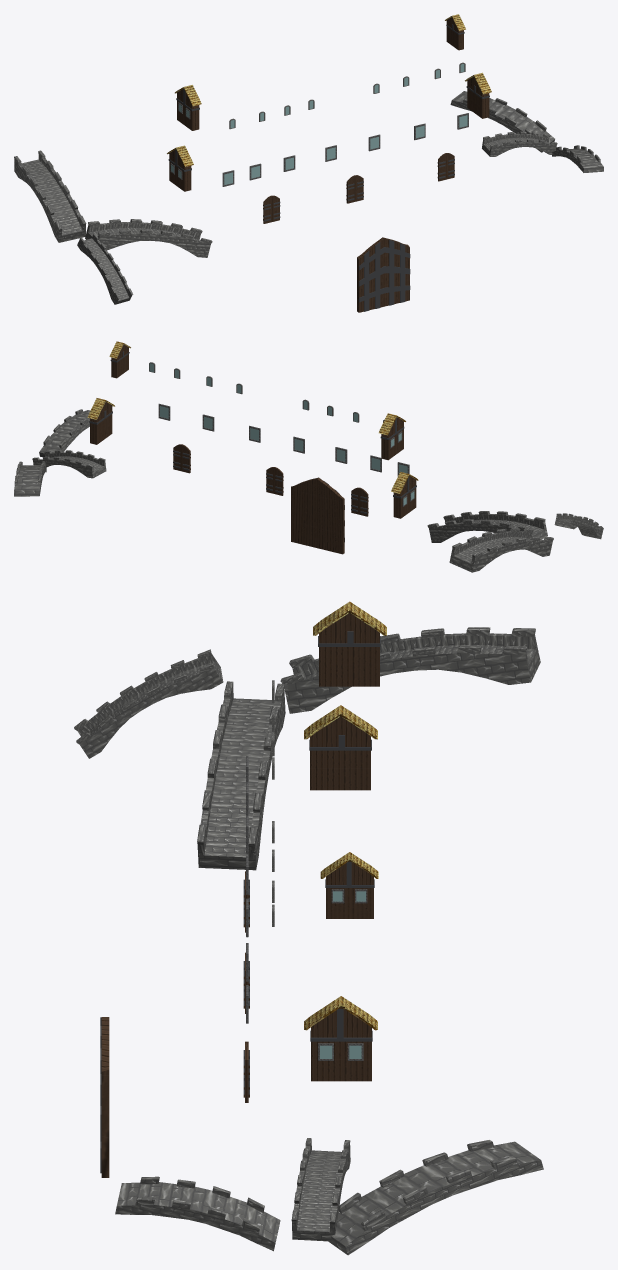
The model's file is SM_Windows_Doors_Bridges.fbx.
The picture shows the model from 3 angles, top to bottom: view 1: azimuth 30°, elevation 25°; view 2: azimuth 150°, elevation 25°; view 3: azimuth 270°, elevation 25°; orthographic projection. The views are drawn at different scales.
Visible parts, largest first — view 1: SM_Bridge_05, SM_Bridge_03, SM_Castle_door_L_01, SM_Castle_Door_R_01, SM_Bridge_04, SM_Small_Bridge_03, SM_Bridge_01, SM_Building_add_on_03, SM_Building_add_on_07, SM_Building_add_on_02, SM_Small_Bridge_01, SM_Building_add_on_06; view 2: SM_Bridge_05, SM_Bridge_03, SM_Castle_door_L_01, SM_Castle_Door_R_01, SM_Bridge_01, SM_Small_Bridge_01, SM_Building_add_on_03, SM_Small_Bridge_03, SM_Building_add_on_07, SM_Building_add_on_02, SM_Bridge_04, SM_Building_add_on_06; view 3: SM_Bridge_03, SM_Bridge_05, SM_Small_Bridge_03, SM_Small_Bridge_01, SM_Bridge_04, SM_Building_add_on_02, SM_Building_add_on_03, SM_Building_add_on_07, SM_Bridge_01, SM_Building_add_on_06, SM_Castle_Door_R_01.
Part boxes in pixels (bbox=[...]): SM_Bridge_05: bbox=[14, 150, 86, 242]; SM_Bridge_03: bbox=[85, 219, 212, 257]; SM_Castle_door_L_01: bbox=[357, 237, 384, 312]; SM_Castle_Door_R_01: bbox=[383, 237, 410, 306]; SM_Bridge_04: bbox=[77, 233, 133, 304]; SM_Small_Bridge_03: bbox=[450, 91, 554, 152]; SM_Bridge_01: bbox=[482, 131, 557, 156]; SM_Building_add_on_03: bbox=[167, 145, 193, 191]; SM_Building_add_on_07: bbox=[175, 85, 201, 130]; SM_Building_add_on_02: bbox=[465, 72, 491, 118]; SM_Small_Bridge_01: bbox=[552, 145, 603, 172]; SM_Building_add_on_06: bbox=[445, 14, 465, 50]; SM_Bridge_05: bbox=[449, 528, 553, 572]; SM_Bridge_03: bbox=[427, 511, 547, 542]; SM_Castle_door_L_01: bbox=[316, 477, 344, 554]; SM_Castle_Door_R_01: bbox=[291, 478, 317, 547]; SM_Bridge_01: bbox=[32, 450, 106, 478]; SM_Small_Bridge_01: bbox=[39, 409, 90, 457]; SM_Building_add_on_03: bbox=[391, 472, 418, 518]; SM_Small_Bridge_03: bbox=[14, 461, 46, 496]; SM_Building_add_on_07: bbox=[378, 413, 405, 460]; SM_Building_add_on_02: bbox=[87, 398, 114, 444]; SM_Bridge_04: bbox=[554, 513, 603, 539]; SM_Building_add_on_06: bbox=[109, 341, 130, 378]; SM_Bridge_03: bbox=[197, 681, 285, 870]; SM_Bridge_05: bbox=[280, 627, 540, 713]; SM_Small_Bridge_03: bbox=[328, 1140, 543, 1255]; SM_Small_Bridge_01: bbox=[115, 1176, 280, 1251]; SM_Bridge_04: bbox=[74, 649, 223, 758]; SM_Building_add_on_02: bbox=[304, 996, 377, 1081]; SM_Building_add_on_03: bbox=[304, 705, 377, 790]; SM_Building_add_on_07: bbox=[313, 601, 386, 686]; SM_Bridge_01: bbox=[291, 1138, 350, 1241]; SM_Building_add_on_06: bbox=[320, 852, 378, 918]; SM_Castle_Door_R_01: bbox=[100, 1017, 109, 1177].
Bounding box in the file's own units: 18009 × 7216 × 7186.
Materials: 1 (1 with a texture image).
